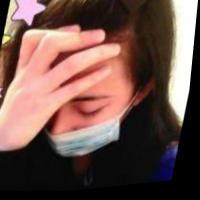WRONG: (23, 72, 132, 168)
